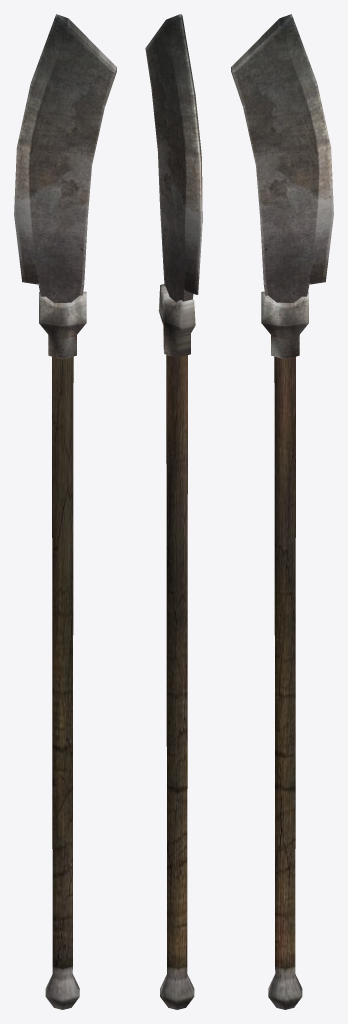
File: weapons_longw01.glb
The picture shows the model from 3 angles, left to right: view 1: azimuth 90°, elevation 25°; view 2: azimuth 210°, elevation 25°; view 3: azimuth 270°, elevation 25°; orthographic projection.
Parts seen in each view (by area): view 1: longw01; view 2: longw01; view 3: longw01.
Boxes of the visible parts, x1,y1,x2,y2 form: longw01: [14, 14, 116, 1009]; longw01: [145, 14, 202, 1009]; longw01: [231, 14, 333, 1009].
Bounding box in the file's own units: 0.067 × 1.86 × 0.175.
1 material, 1 textured.
